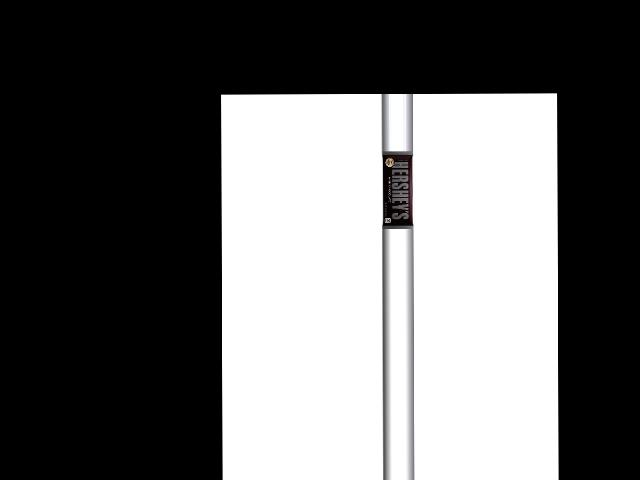chocolate: (378, 152, 412, 229)
